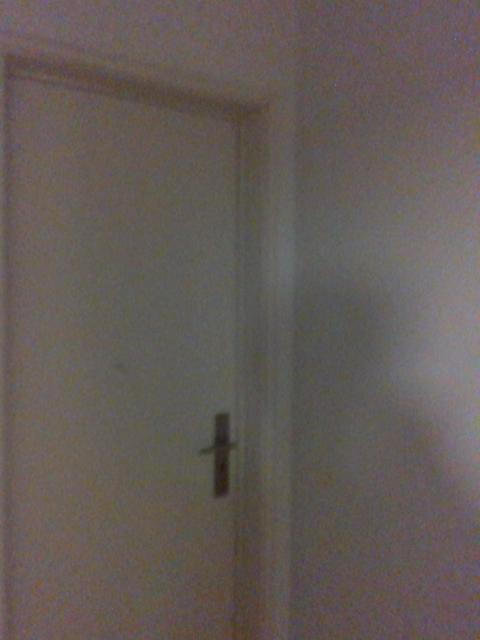door: (1, 75, 238, 640)
